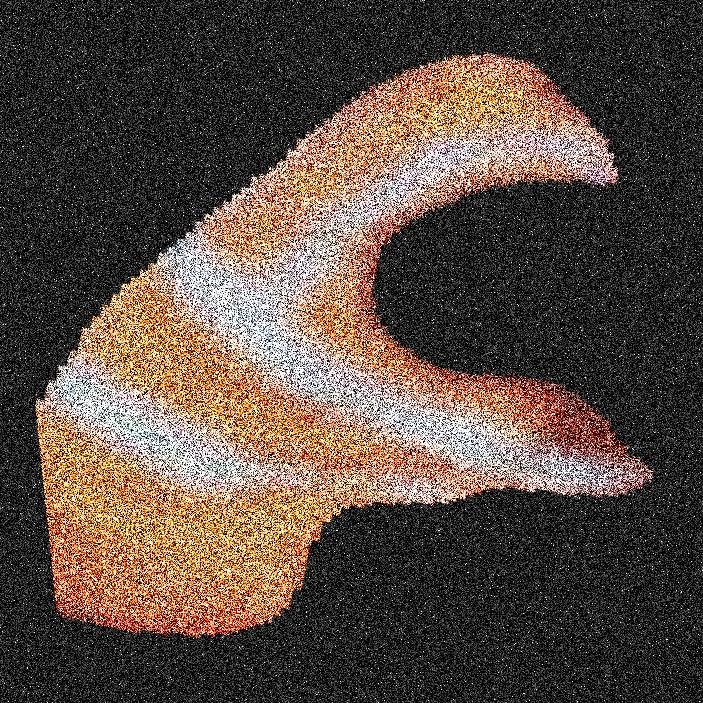Colete: (181, 0, 400, 702)
